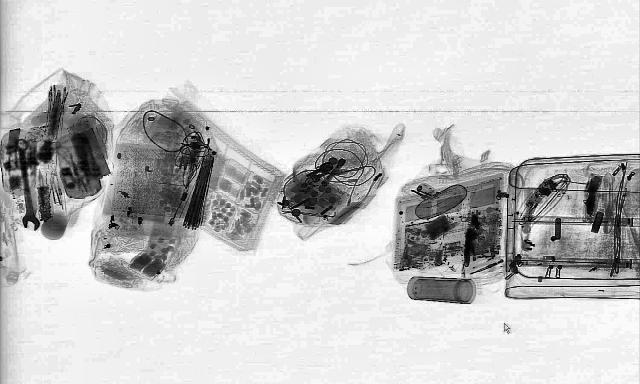Wrench: (8, 138, 42, 230)
